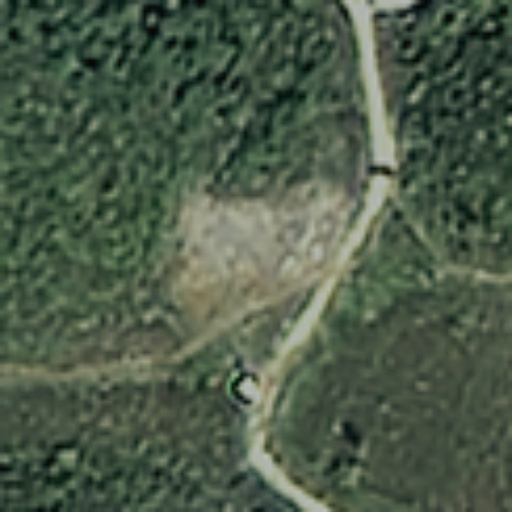landslide: (172, 178, 357, 314)
